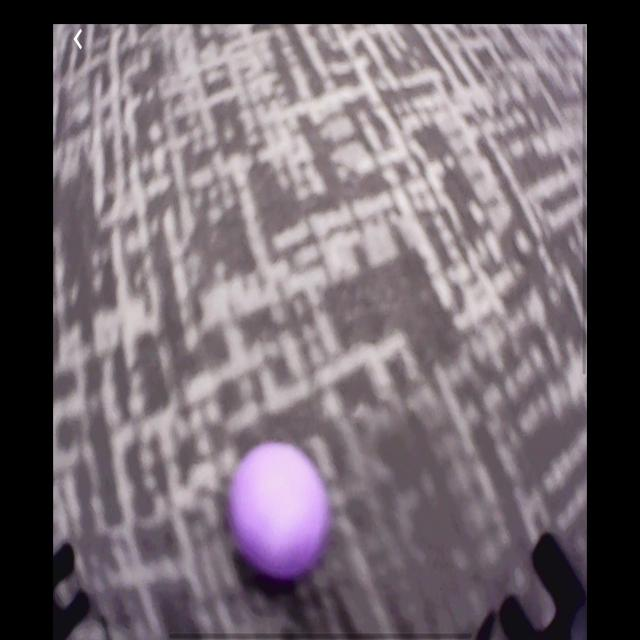ball: (228, 443, 328, 581)
